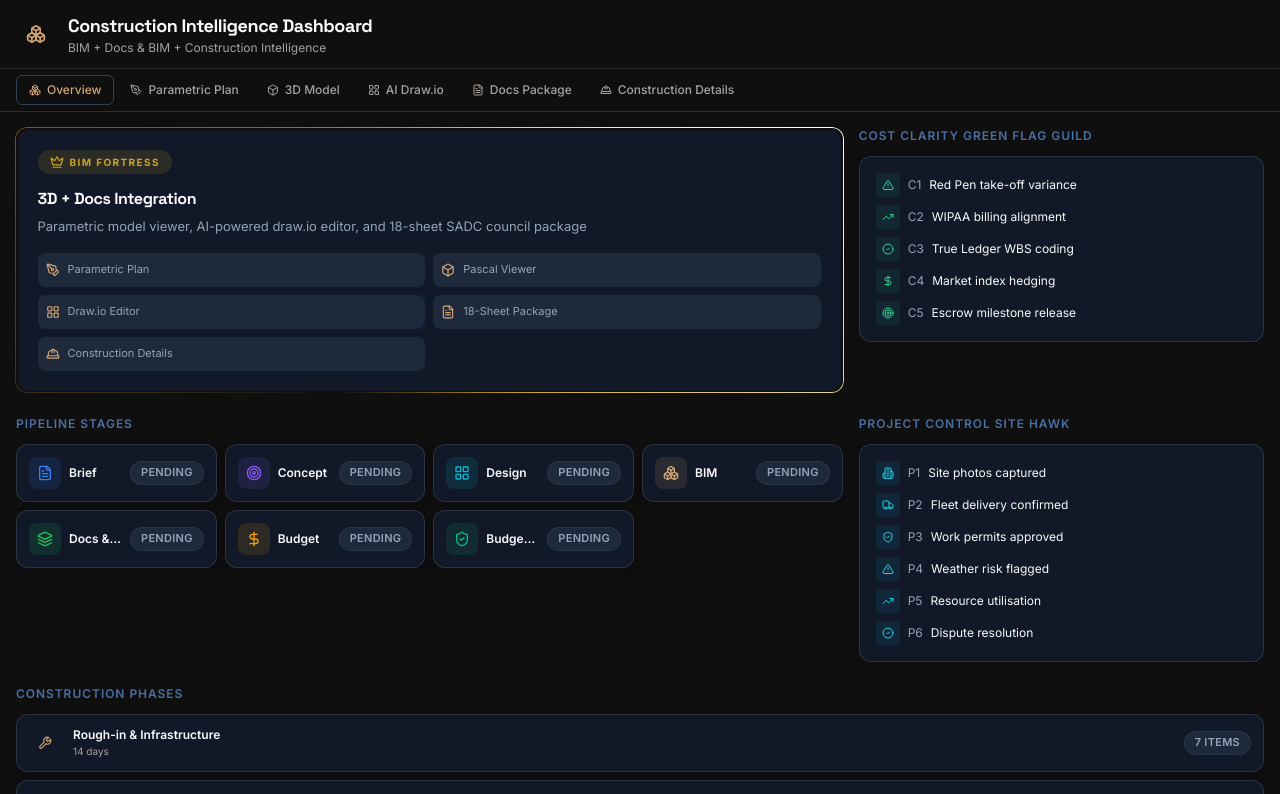
it: BimIntegrationDashboard › tab switching › shows empty state on Parametric Plan tab when no plan
What coordinates should you click on to do the following:
click the button with test id "tab-parametric-plan"
I would click on:
 (185, 90)
Its box is [118,76,251,104].
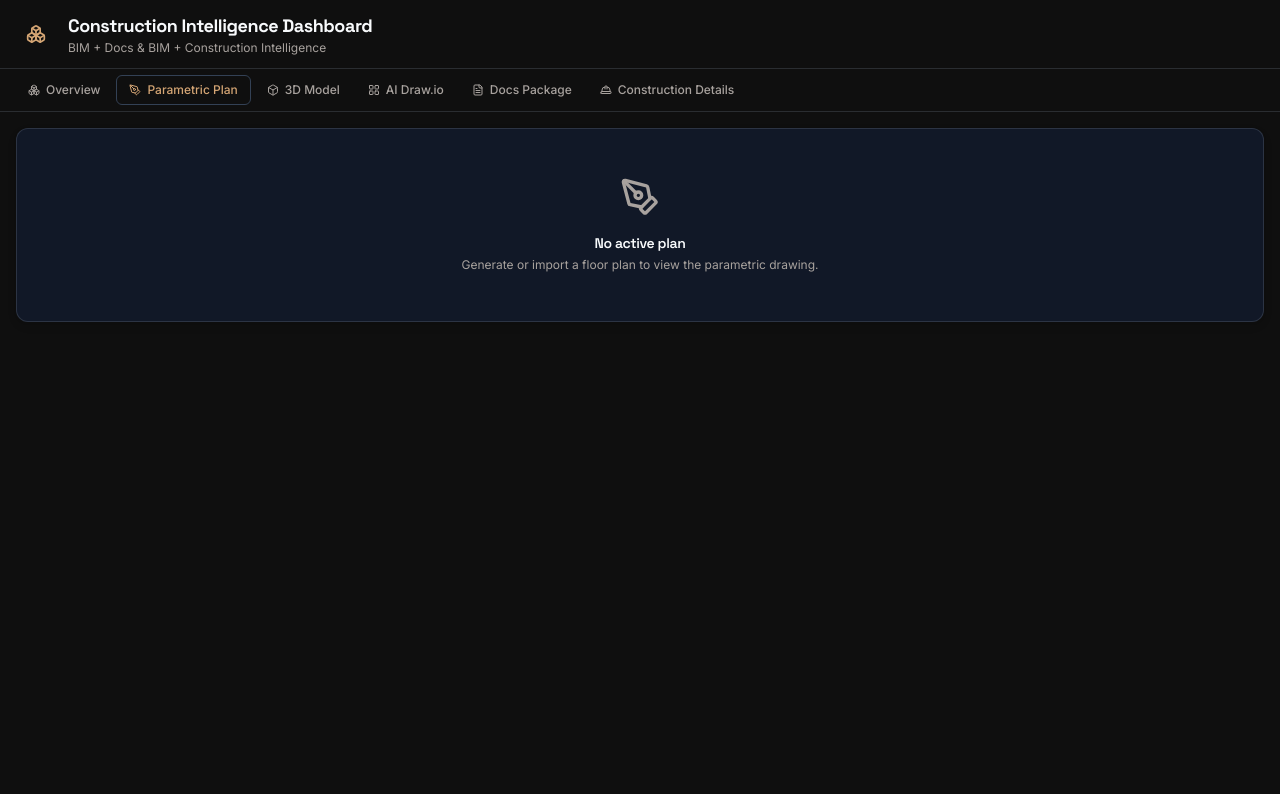
Now the heading "No active plan" is shown, box [594,233,686,253]
